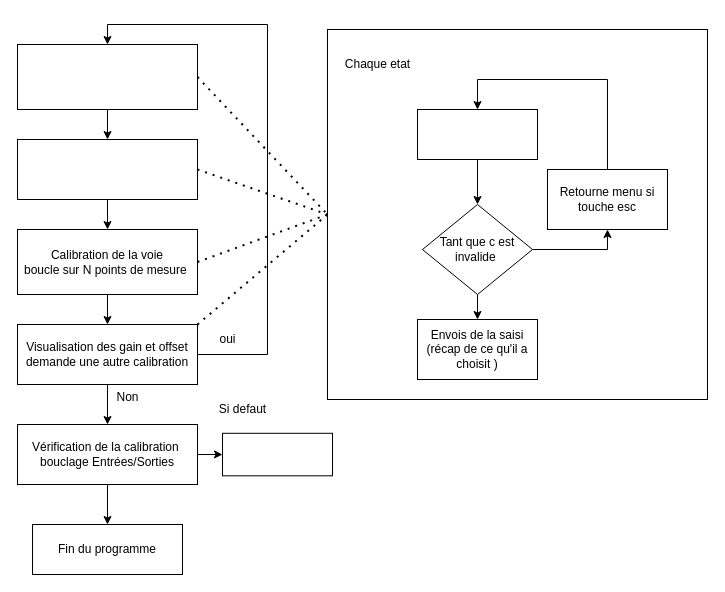
The diagram is 725 pixels wide and 592 high, and some of its shapes have lost their labels. Each missing label, with the centre of its shape:
"Choix du type I or O et de la voie" goes at (107,77).
"Demande de réponse" goes at (477,134).
"Mesage erreur sur tel voie ..." goes at (277,454).
"Message de description du materiel (tension min max etc)" goes at (107,169).
